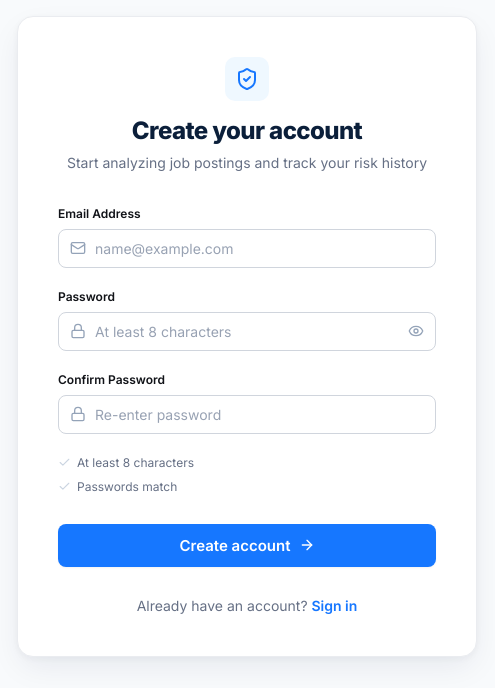
Scenario: Dedicated Authentication Pages & Account Flow › validates password mismatch on RegisterPage
Expected: the heading "Create your account" is shown, [132,116,362,145]
Step 1. Type "bob@example.com" into the field labelled "Email Address" → (247, 248), box [58,229,436,268]
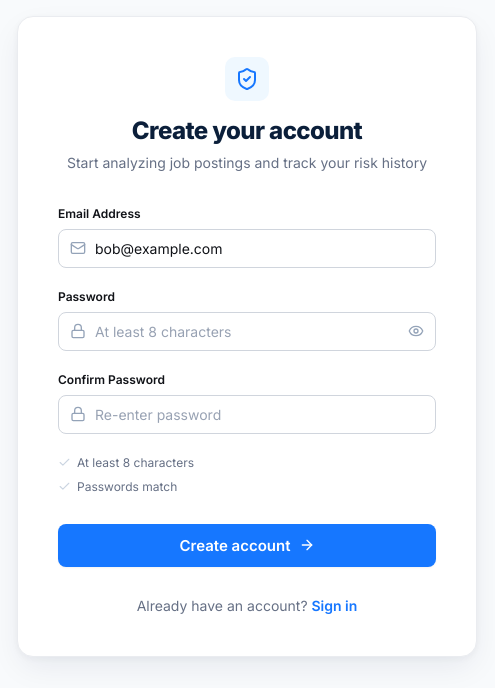
Step 2. Type "Password123" into the password field with placeholder "At least 8 characters" → (247, 331), box [58,312,436,351]
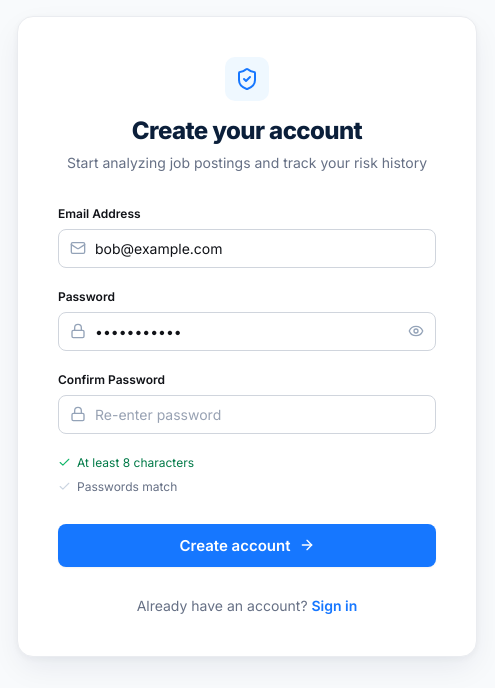
Step 3. Type "DifferentPassword456" into the password field with placeholder "Re-enter password" → (247, 414), box [58,395,436,434]
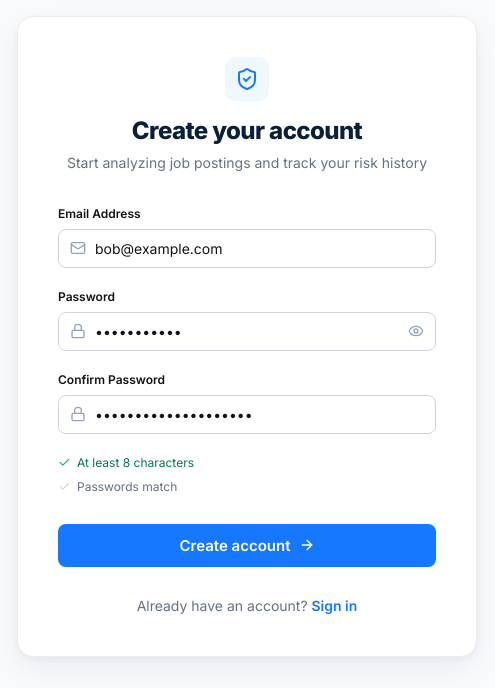
Step 4. Click the button "Create account" → (247, 545), box [58,524,436,567]
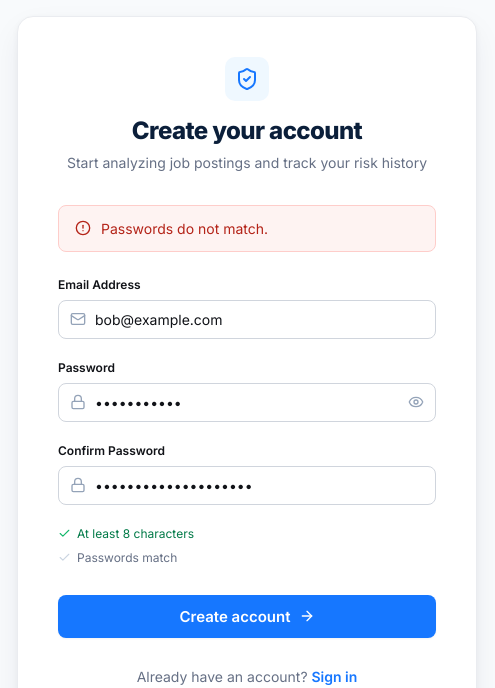
Expected: the text "Passwords do not match." is shown, [101,218,268,239]
